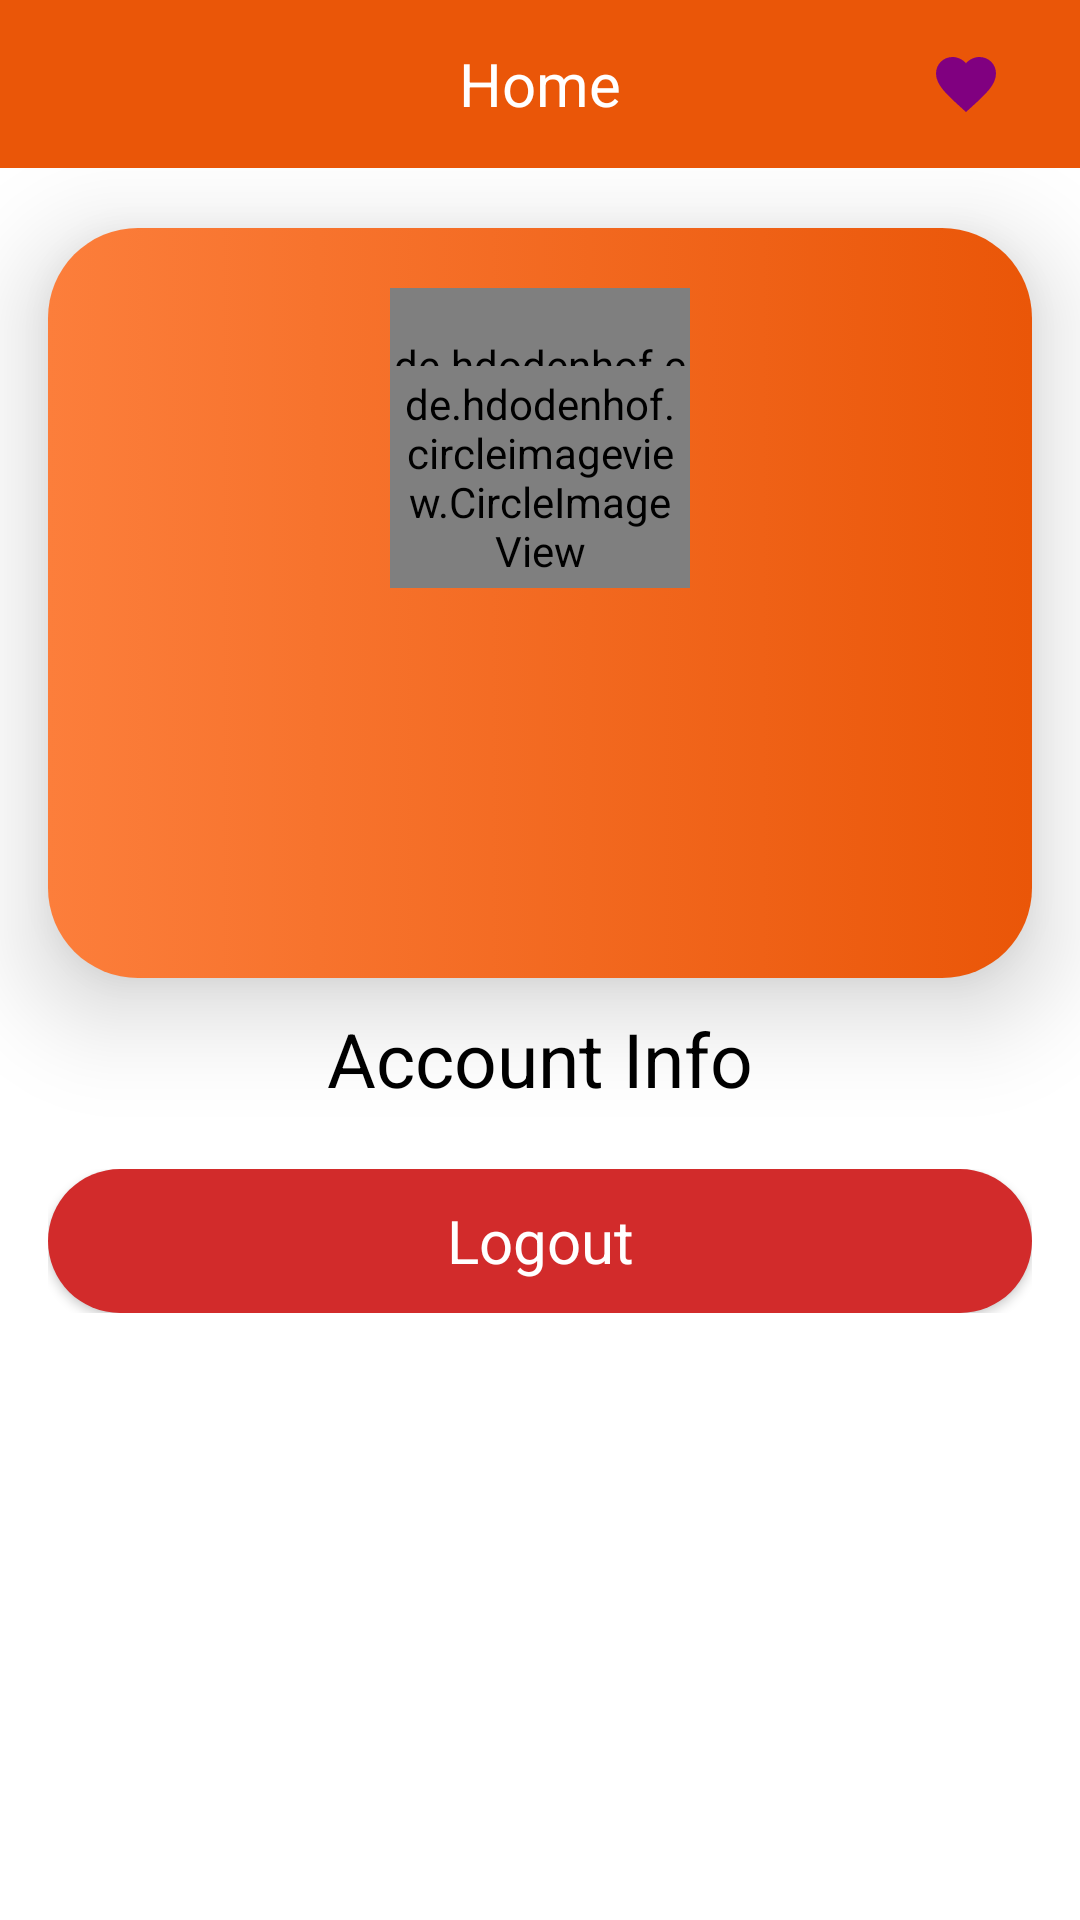

Where icons sit on this 1080×1920 app screen, as [left=x1, top=y1, right=x2, bottom=y2]:
favorite: [left=936, top=57, right=996, bottom=112]
